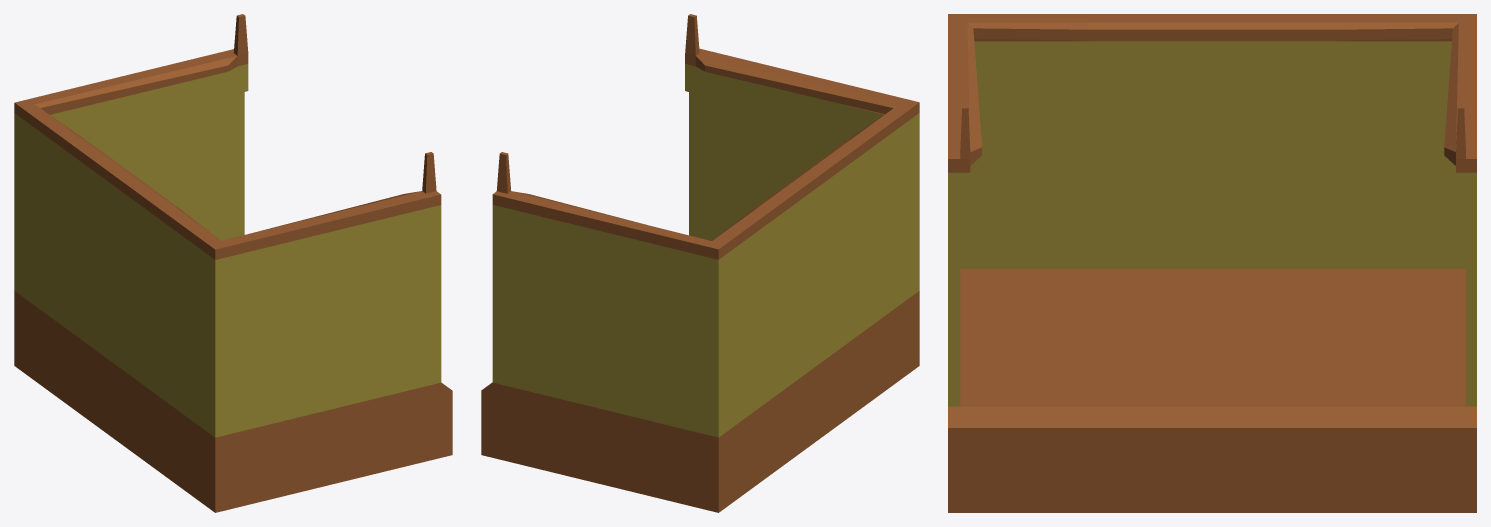
The model's file is Stage.fbx.
3 renders of one model, left to right at view 1: azimuth 30°, elevation 25°; view 2: azimuth 150°, elevation 25°; view 3: azimuth 270°, elevation 25°, orthographic. The views are drawn at different scales.
Visible parts, largest first — view 1: Plane.003; view 2: Plane.003; view 3: Plane.003.
Part boxes in pixels (x1=…): Plane.003: x1=14, y1=14, x2=452, y2=512; Plane.003: x1=481, y1=14, x2=919, y2=512; Plane.003: x1=948, y1=14, x2=1476, y2=512.
Size of the model in its own units: 660 by 800 by 968.
